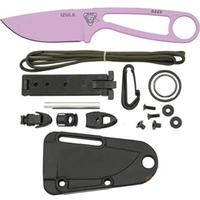knife: (1, 5, 198, 47)
